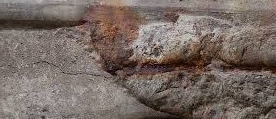Corrosion: (81, 1, 139, 70)
Crack: (7, 60, 101, 77)
Exposed reinforcement: (122, 62, 276, 73)
Spalling: (89, 14, 276, 119)
